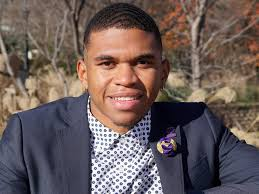black_male: (79, 15, 162, 118)
